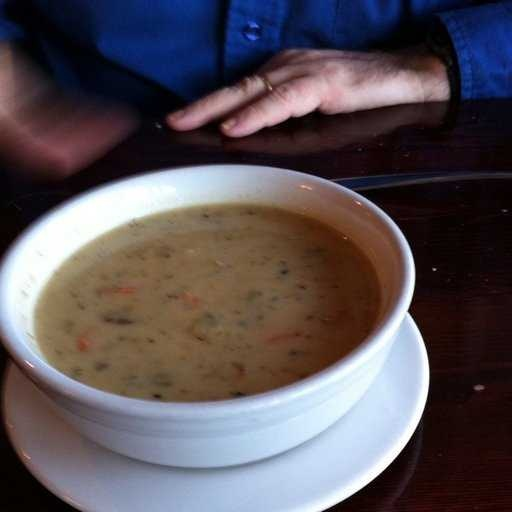soup: (6, 185, 395, 405)
